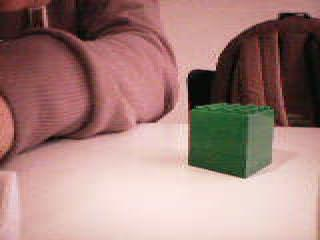legocube: (186, 100, 278, 180)
